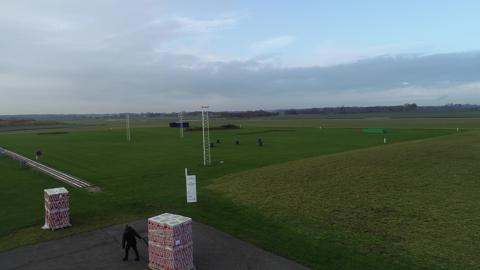RockwoolPallet: (42, 188, 71, 230)
